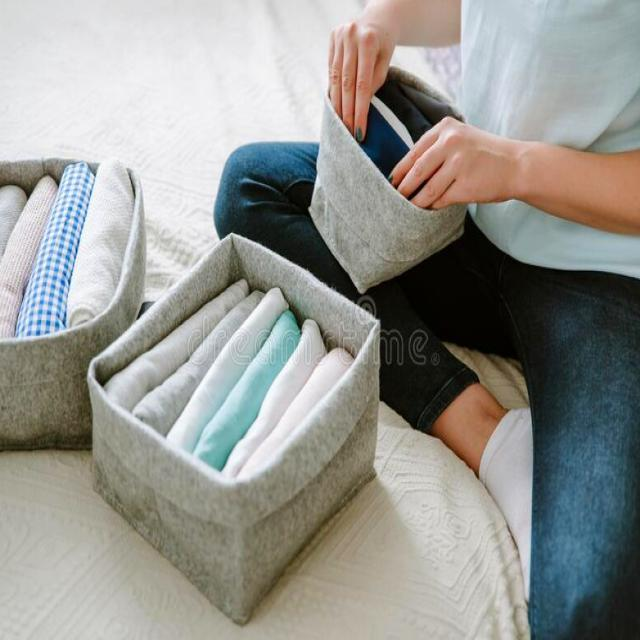clothes: (142, 276, 337, 486), (0, 176, 120, 327)
